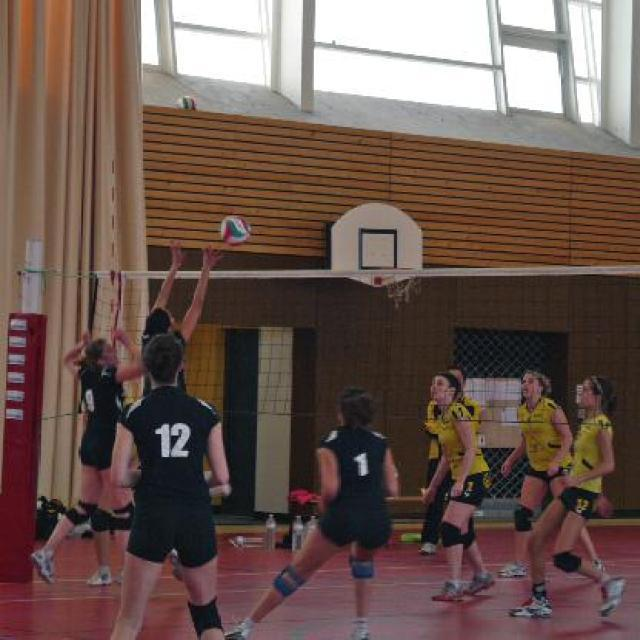volleyball: (220, 213, 249, 246), (174, 96, 197, 110)
